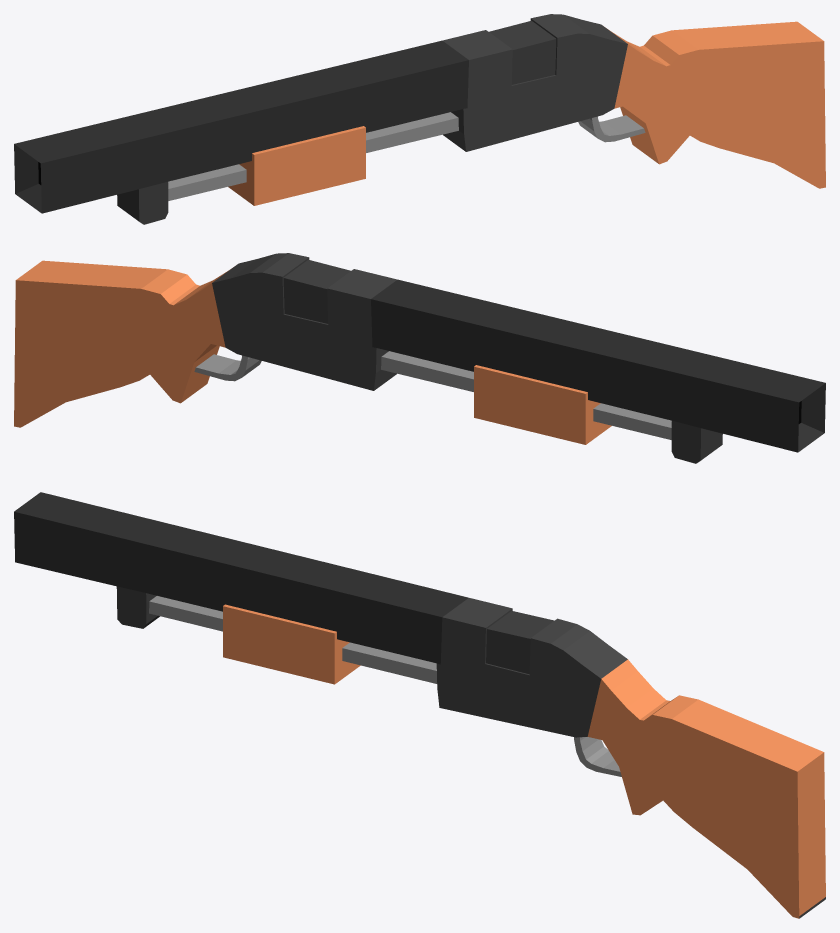
Rendered from shotgun.fbx.
3 views of the same model, one above another, from view 1: azimuth 30°, elevation 25°; view 2: azimuth 150°, elevation 25°; view 3: azimuth 330°, elevation 25° (orthographic).
Parts seen in each view (by area): view 1: Barrel, Back, Body, Pushy thing, Reloader shaft, Bullet hole, End of reloader, Finger hole; view 2: Barrel, Back, Body, Pushy thing, Reloader shaft, Bullet hole, End of reloader, Finger hole; view 3: Back, Barrel, Body, Pushy thing, Reloader shaft, Bullet hole, End of reloader, Finger hole.
Boxes of the visible parts, x1=… form: Barrel: x1=14, y1=40, x2=468, y2=213; Back: x1=606, y1=21, x2=825, y2=188; Body: x1=442, y1=14, x2=627, y2=151; Pushy thing: x1=228, y1=126, x2=365, y2=205; Reloader shaft: x1=168, y1=112, x2=458, y2=200; Bullet hole: x1=489, y1=20, x2=556, y2=84; End of reloader: x1=117, y1=182, x2=168, y2=224; Finger hole: x1=578, y1=115, x2=645, y2=142; Barrel: x1=371, y1=279, x2=825, y2=452; Back: x1=14, y1=260, x2=233, y2=427; Body: x1=212, y1=253, x2=397, y2=390; Pushy thing: x1=474, y1=365, x2=611, y2=444; Reloader shaft: x1=381, y1=351, x2=671, y2=439; Bullet hole: x1=283, y1=259, x2=350, y2=323; End of reloader: x1=671, y1=421, x2=722, y2=463; Finger hole: x1=194, y1=354, x2=261, y2=381; Back: x1=587, y1=659, x2=825, y2=918; Barrel: x1=14, y1=492, x2=468, y2=664; Body: x1=436, y1=598, x2=825, y2=918; Pushy thing: x1=223, y1=604, x2=360, y2=684; Reloader shaft: x1=149, y1=596, x2=437, y2=683; Bullet hole: x1=486, y1=611, x2=554, y2=674; End of reloader: x1=116, y1=586, x2=159, y2=628; Finger hole: x1=574, y1=737, x2=621, y2=776.
Size of the model in its own units: 482 by 127 by 33.3.
